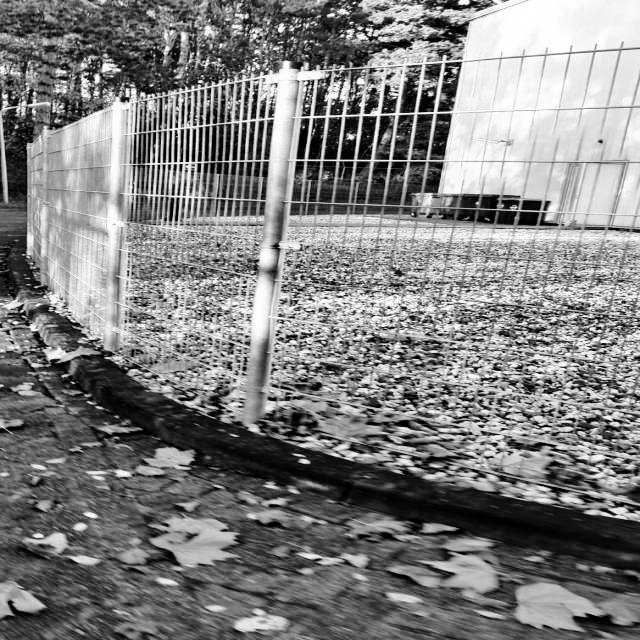fences: (164, 48, 637, 492), (18, 110, 140, 368)
